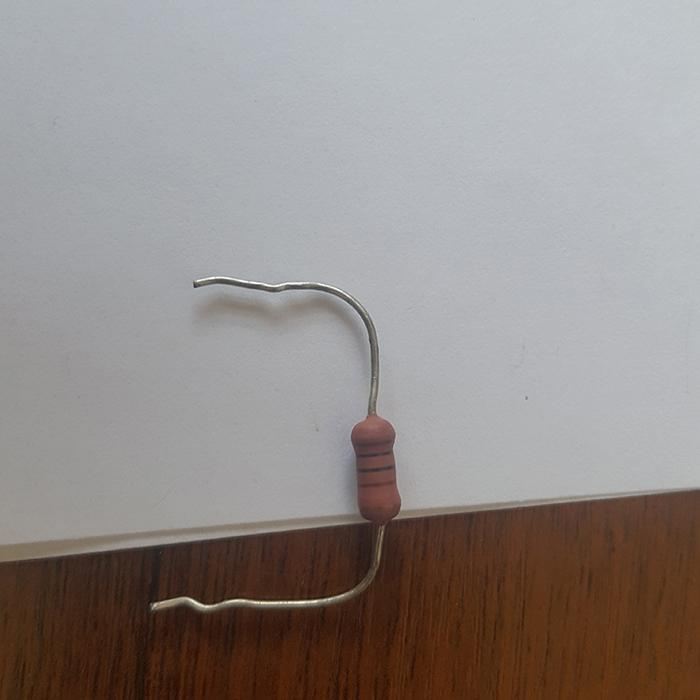resistor: (349, 411, 402, 526)
